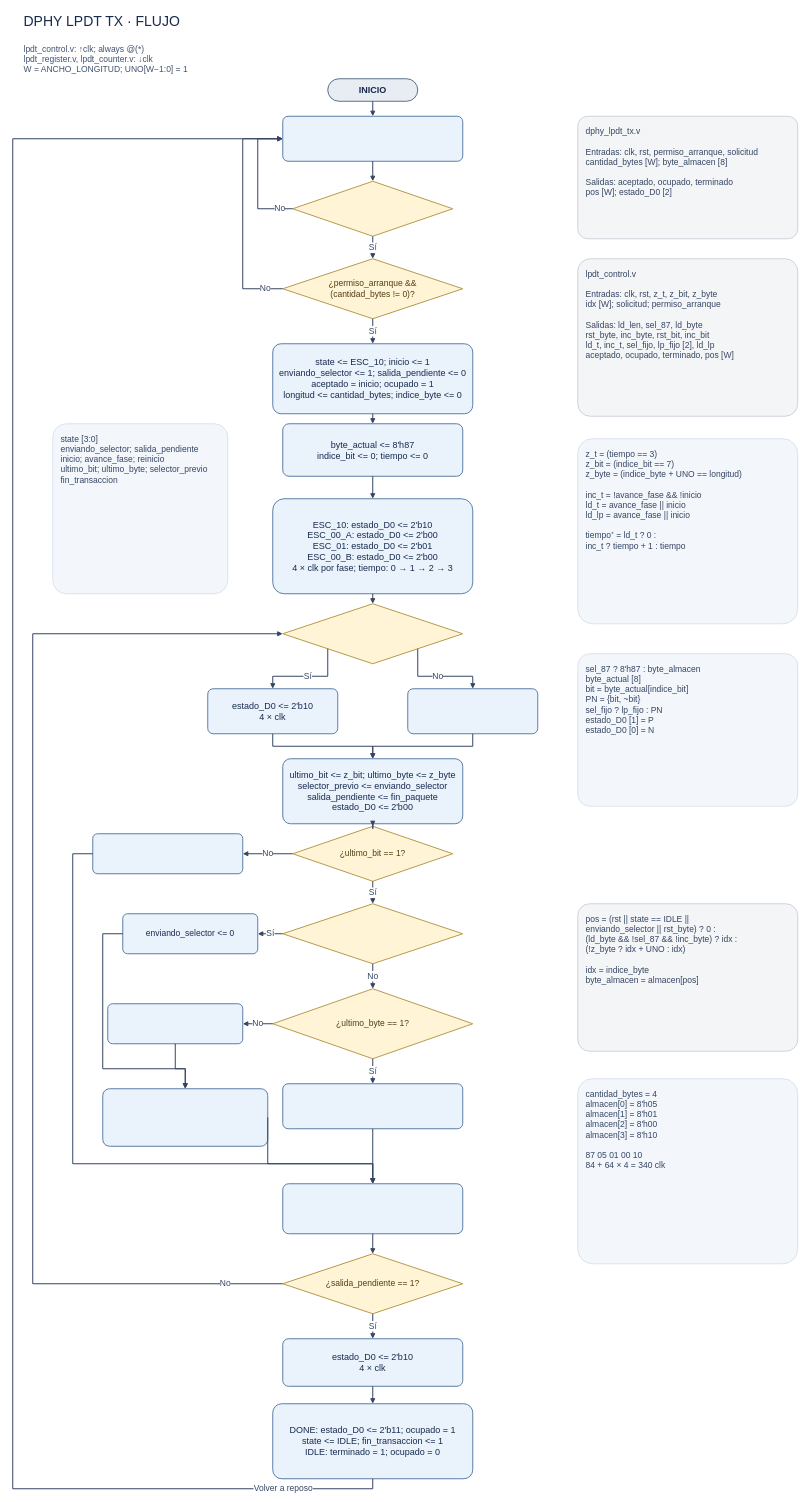
This 807x1502 diagram has some shape labels left out. Here are the shapes that lost their labels. From the top down, the box of each, then its label:
(282, 116, 463, 162): state = IDLE estado_D0 = 2'b11 ocupado = 0; terminado = fin_transaccion
(292, 180, 453, 236): ¿solicitud == 1?
(282, 603, 463, 664): ¿byte_actual[indice_bit] == 1?
(407, 688, 538, 734): estado_D0 <= 2'b01 4 × clk
(92, 833, 243, 874): indice_bit <= indice_bit + 1
(282, 903, 463, 964): ¿selector_previo == 1?
(107, 1003, 243, 1044): indice_byte <= indice_byte + UNO
(102, 1088, 268, 1146): byte_actual <= byte_almacen indice_bit <= 0
(282, 1083, 463, 1129): salida_pendiente = 1
(282, 1183, 463, 1234): estado_D0 = 2'b00 4 × clk desde el inicio de SPACE
